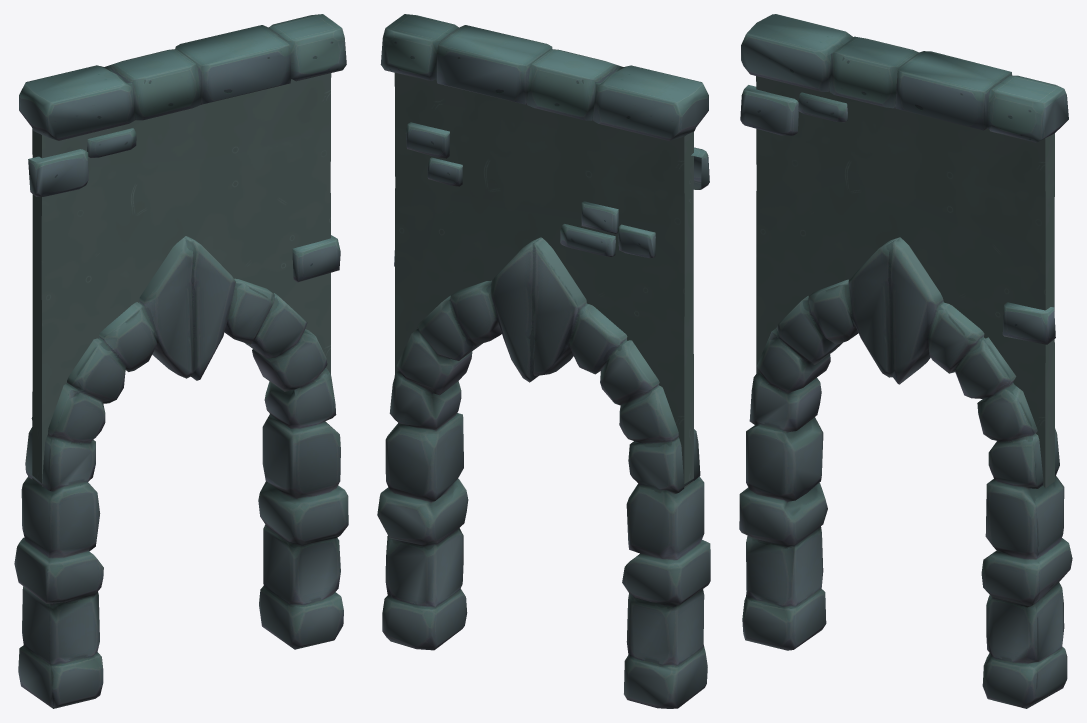
File: gateway.fbx
The picture shows the model from 3 angles, left to right: view 1: azimuth 30°, elevation 25°; view 2: azimuth 150°, elevation 25°; view 3: azimuth 330°, elevation 25°; orthographic projection.
Parts seen in each view (by area): view 1: SM_Gateway; view 2: SM_Gateway; view 3: SM_Gateway.
Boxes of the visible parts, x1,y1,x2,y2 form: SM_Gateway: (14,14,348,708); SM_Gateway: (377,14,710,708); SM_Gateway: (739,14,1072,708).
Bounding box in the file's own units: 530 × 1000 × 118.
